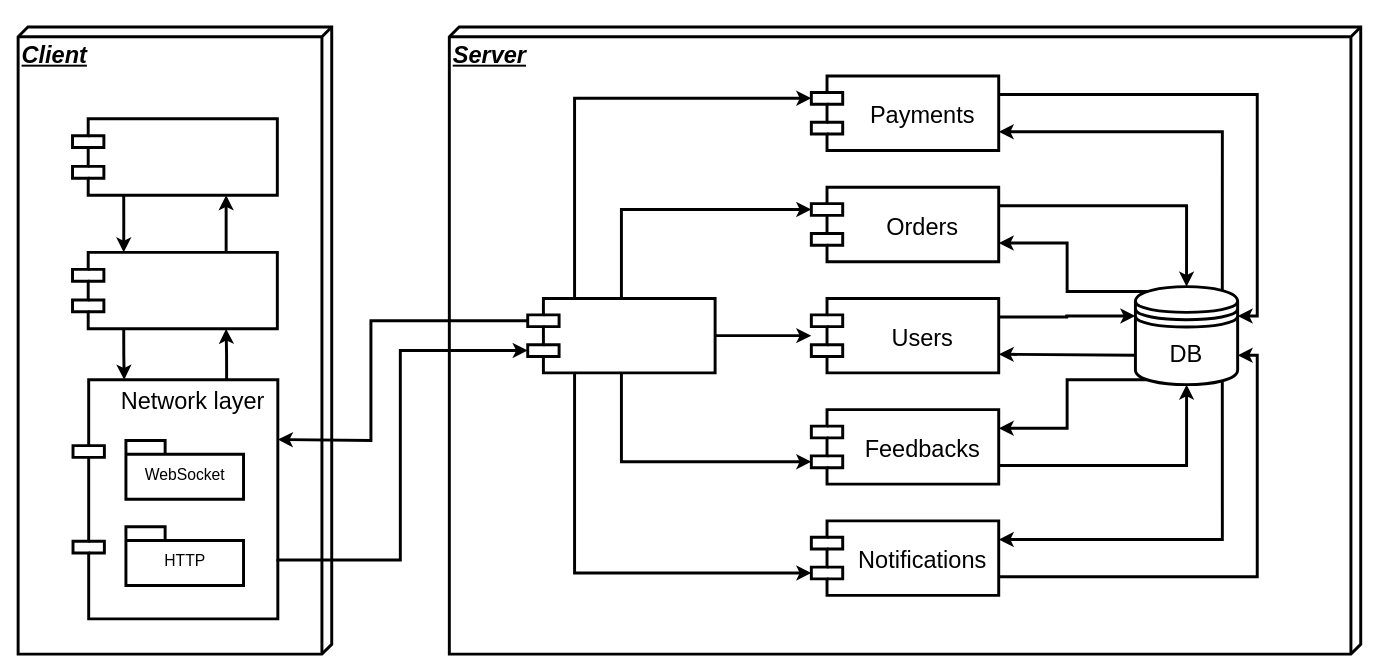
Image size: 1379x672. Some labels were removed from this diagram. Here are the shapes that lost their labels. From the top down, the centre of each, then its label:
point (174, 156): View
point (174, 290): State
point (621, 335): Auth Service
